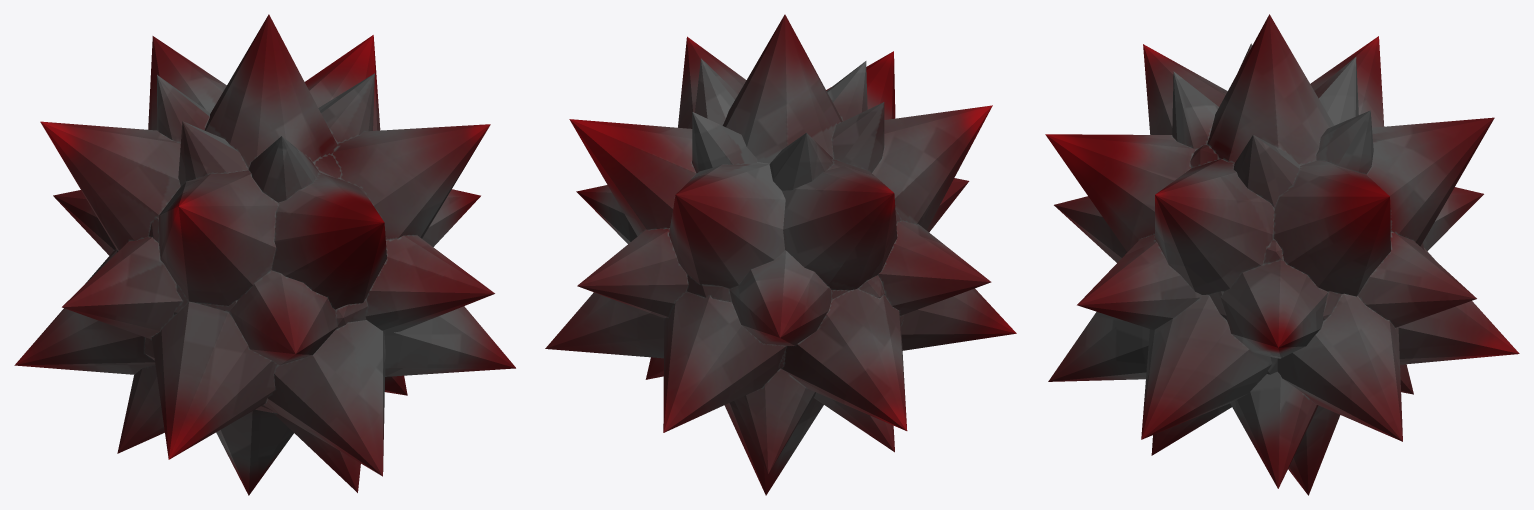
The model's file is virus_spiky.fbx.
The picture shows the model from 3 angles, left to right: view 1: azimuth 30°, elevation 25°; view 2: azimuth 150°, elevation 25°; view 3: azimuth 270°, elevation 25°; orthographic projection. The views are drawn at different scales.
Visible parts, largest first — view 1: Cone.001; view 2: Cone.001; view 3: Cone.001.
Part boxes in pixels (left/top/right/bottom): Cone.001: left=14, top=14, right=515, bottom=495; Cone.001: left=545, top=14, right=1016, bottom=495; Cone.001: left=1045, top=14, right=1519, bottom=495.
Size of the model in its own units: 422 by 466 by 416.
Materials: 1 (1 with a texture image).
